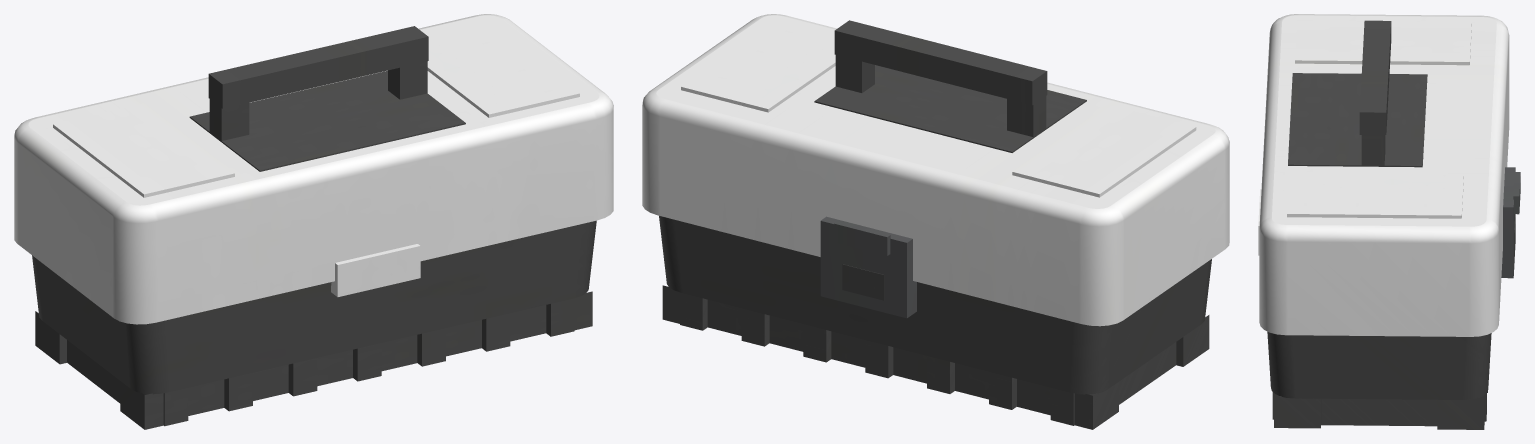
Rendered from toolbox.glb.
3 renders of one model, left to right at view 1: azimuth 30°, elevation 25°; view 2: azimuth 150°, elevation 25°; view 3: azimuth 270°, elevation 25°, orthographic. The views are drawn at different scales.
Visible parts, largest first — view 1: Toolbox; view 2: Toolbox; view 3: Toolbox.
Part boxes in pixels (<box>): Toolbox: <box>14,14,613,429</box>; Toolbox: <box>642,14,1229,429</box>; Toolbox: <box>1258,14,1520,429</box>.
Size of the model in its own units: 0.4709 by 0.2588 by 0.2344.
Materials: 1 (1 with a texture image).
